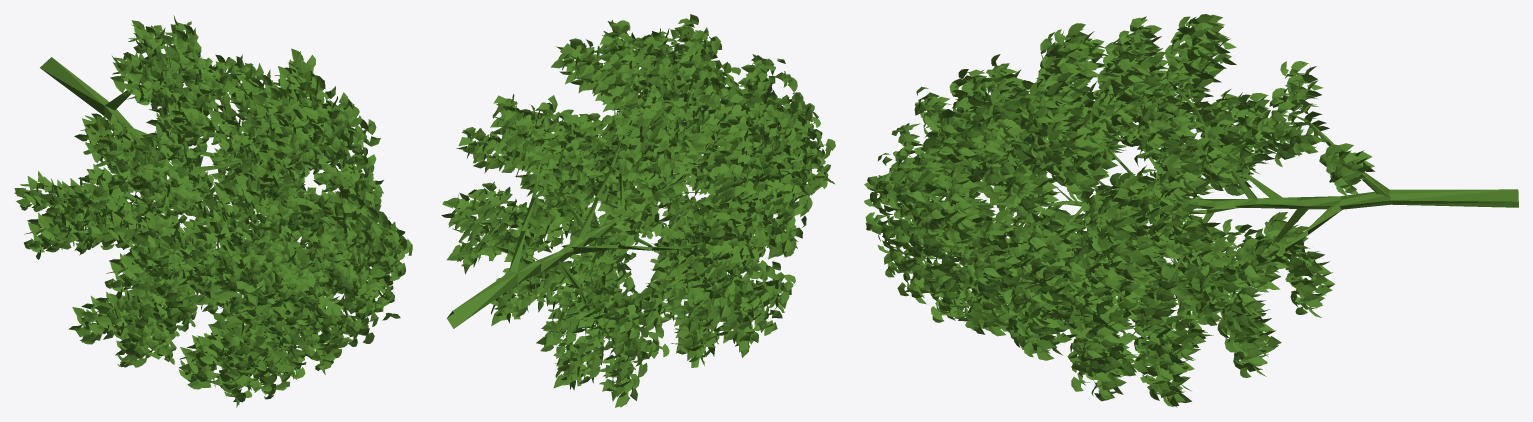
Rendered from plant.obj.
The picture shows the model from 3 angles, left to right: view 1: azimuth 30°, elevation 25°; view 2: azimuth 150°, elevation 25°; view 3: azimuth 270°, elevation 25°; orthographic projection. The views are drawn at different scales.
Bounding box in the file's own units: 2.39 × 2.37 × 3.92.
